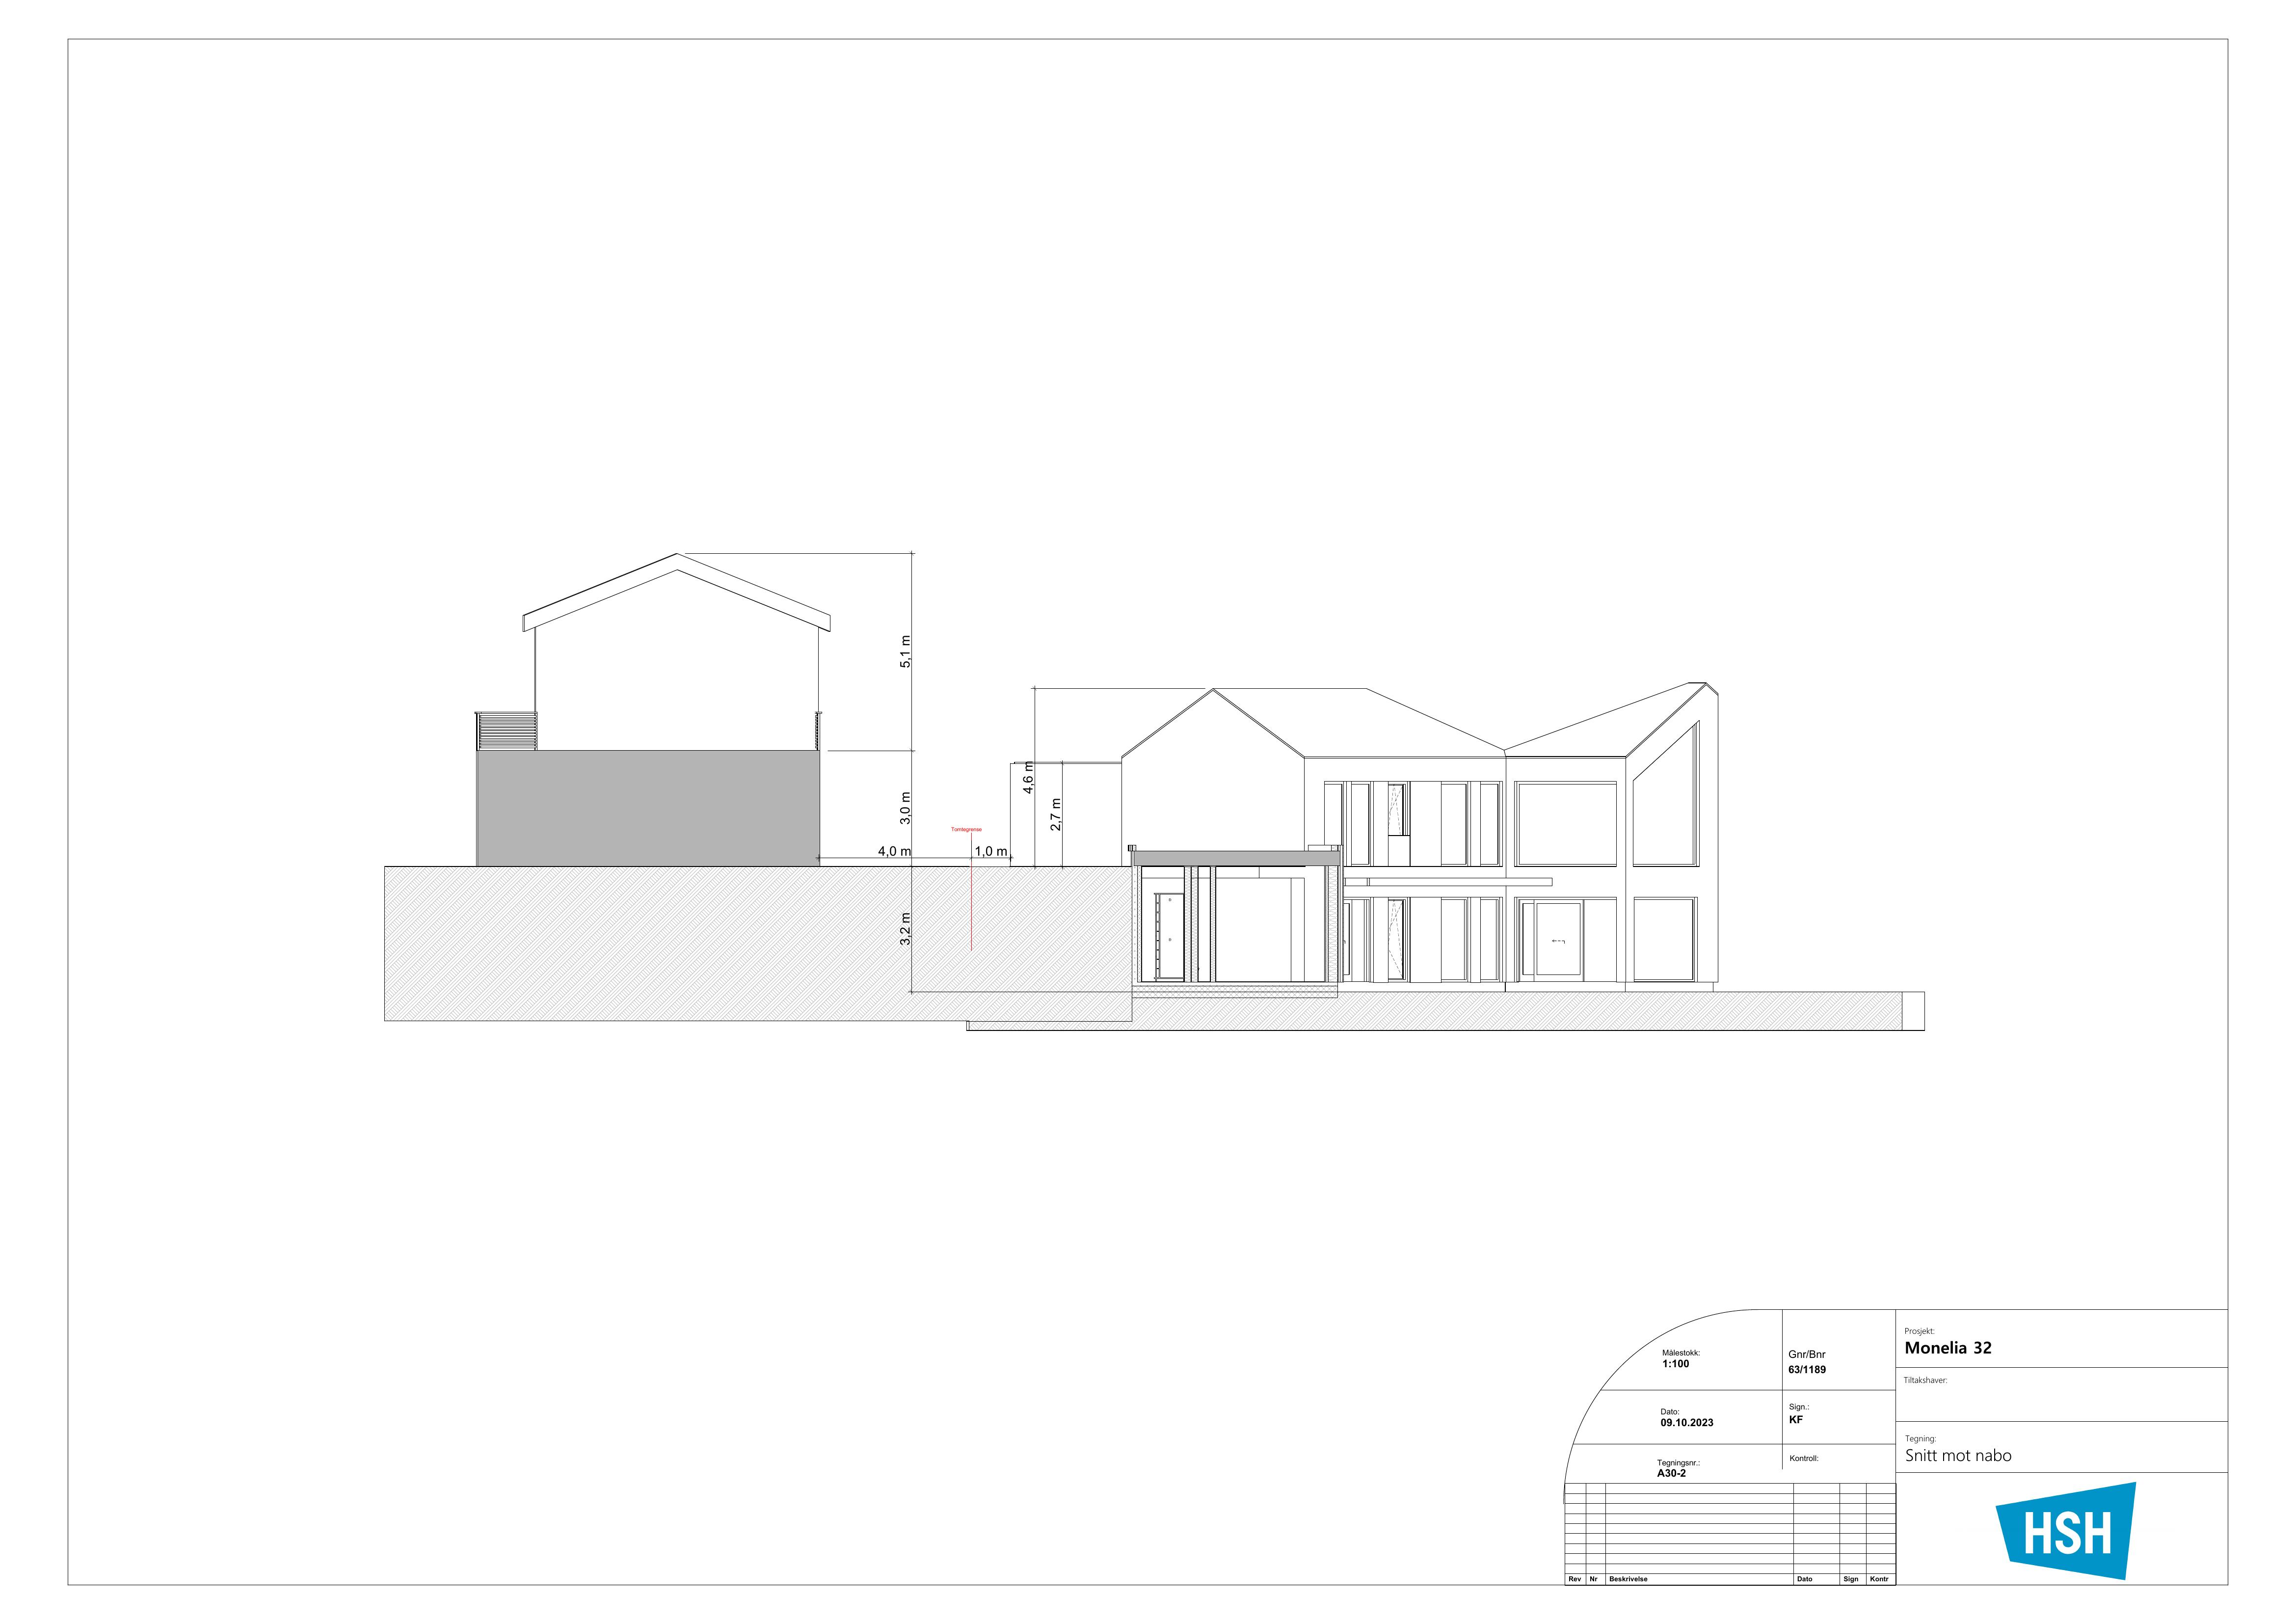snitt: (487, 482, 1759, 1027)
